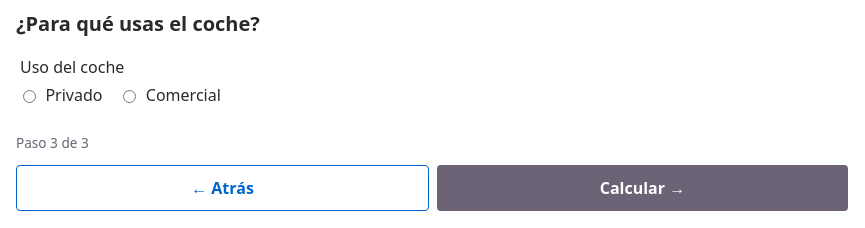
Test: Wizard navigation › disables Continue on step 3 until a car_use is chosen
expect the button with class "wizard-shell__button--continue" is disabled: met, box [437,165,848,211]
Click the radio button labelled "Privado": (30, 96) [23,90,36,103]
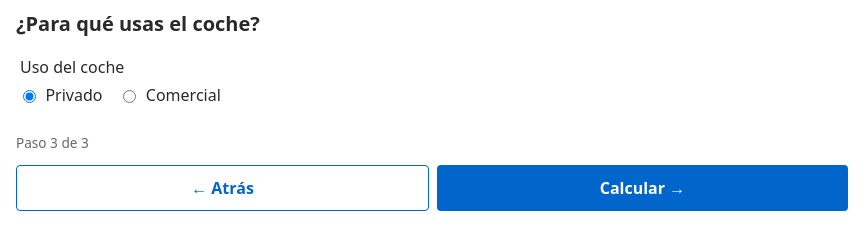
expect the button with class "wizard-shell__button--continue" is enabled: met, box [437,165,848,211]
